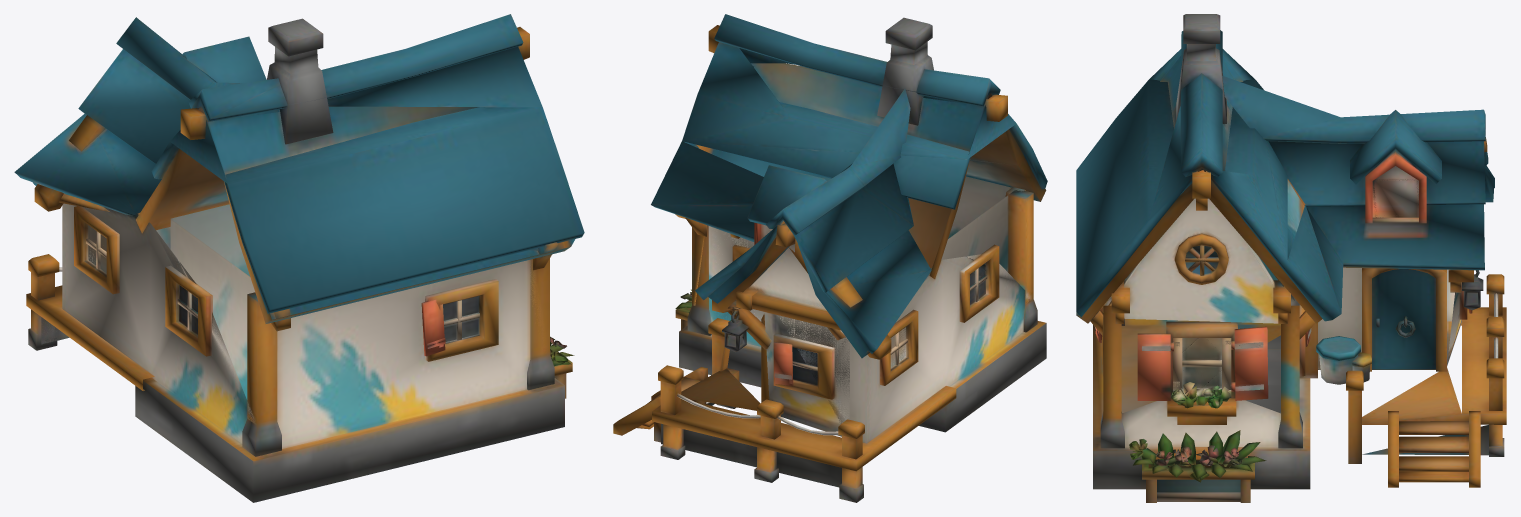
File: 32076725-cottage-web.glb
3 views of the same model, side by side, from view 1: azimuth 30°, elevation 25°; view 2: azimuth 150°, elevation 25°; view 3: azimuth 270°, elevation 25° (orthographic). The views are drawn at different scales.
Visible parts, largest first — view 1: tripo_node_44c20811-ad9d-4b1c-bfb1-1b369a8bc01b; view 2: tripo_node_44c20811-ad9d-4b1c-bfb1-1b369a8bc01b; view 3: tripo_node_44c20811-ad9d-4b1c-bfb1-1b369a8bc01b.
Boxes of the visible parts, <box> form: tripo_node_44c20811-ad9d-4b1c-bfb1-1b369a8bc01b: <box>14,14,584,502</box>; tripo_node_44c20811-ad9d-4b1c-bfb1-1b369a8bc01b: <box>613,14,1047,502</box>; tripo_node_44c20811-ad9d-4b1c-bfb1-1b369a8bc01b: <box>1076,14,1506,502</box>.
Bounding box in the file's own units: 0.9355 × 0.9707 × 0.998.
1 material, 1 textured.
